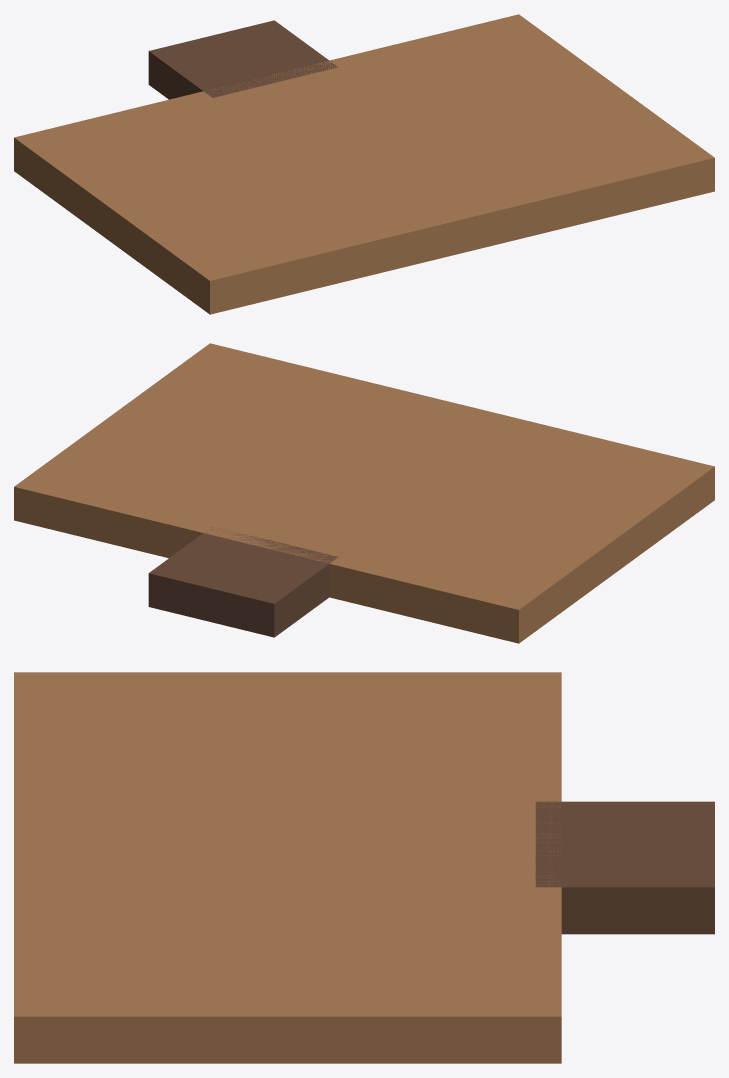
The model's file is cutting_board.glb.
3 renders of one model, top to bottom at view 1: azimuth 30°, elevation 25°; view 2: azimuth 150°, elevation 25°; view 3: azimuth 270°, elevation 25°, orthographic. The views are drawn at different scales.
Parts seen in each view (by area): view 1: Board, Handle.003; view 2: Board, Handle.003; view 3: Board, Handle.003.
Part boxes in pixels (x1,y1,x2,y2): Board: [14, 14, 714, 314]; Handle.003: [148, 20, 337, 99]; Board: [14, 343, 714, 643]; Handle.003: [148, 527, 337, 637]; Board: [14, 672, 561, 1063]; Handle.003: [535, 801, 714, 934].
Bounding box in the file's own units: 0.345 × 0.022 × 0.297.
